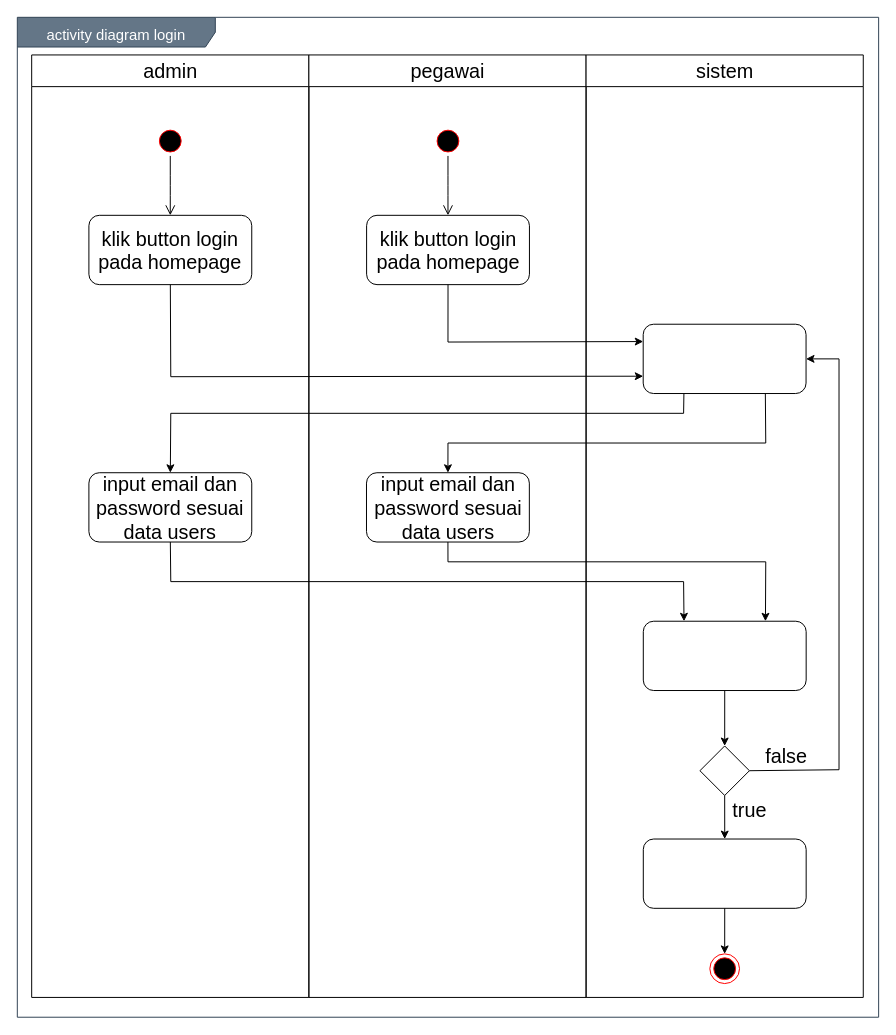
This 896x1035 diagram has some shape labels left out. The shapes that lost their labels are listed below. From the top down, each one's centre as x and y in pixels, then its label:
the point at 724,358: menampilkan form login
the point at 724,655: validasi akun
the point at 724,873: menampilkan halaman dashboard
